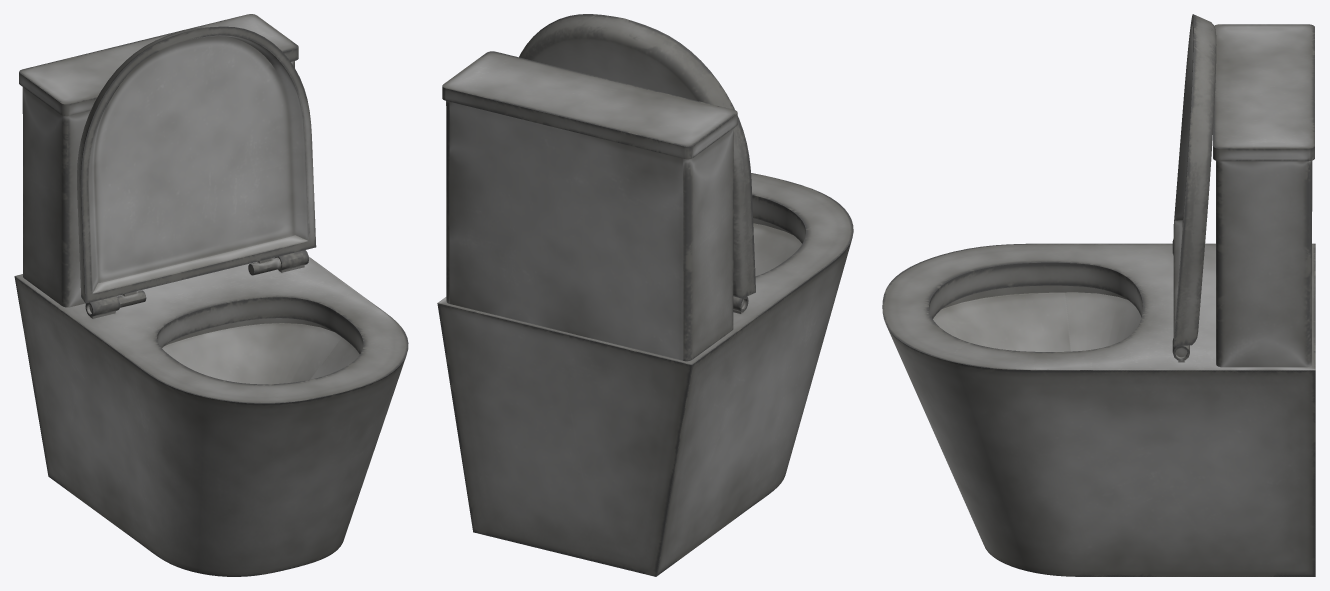
File: filthy_prison_toilet_-_4096px2.glb
3 views of the same model, side by side, from view 1: azimuth 30°, elevation 25°; view 2: azimuth 150°, elevation 25°; view 3: azimuth 270°, elevation 25° (orthographic). The views are drawn at different scales.
Visible parts, largest first — view 1: Prison Toilet, Prison Toilet Lid; view 2: Prison Toilet, Prison Toilet Lid; view 3: Prison Toilet, Prison Toilet Lid.
Part boxes in pixels (<box>): Prison Toilet: <box>14,14,408,576</box>; Prison Toilet Lid: <box>77,26,316,307</box>; Prison Toilet: <box>437,51,853,576</box>; Prison Toilet Lid: <box>519,14,755,298</box>; Prison Toilet: <box>882,24,1315,576</box>; Prison Toilet Lid: <box>1173,14,1216,346</box>.
Bounding box in the file's own units: 0.4766 × 0.8818 × 0.6897.
1 material, 1 textured.
